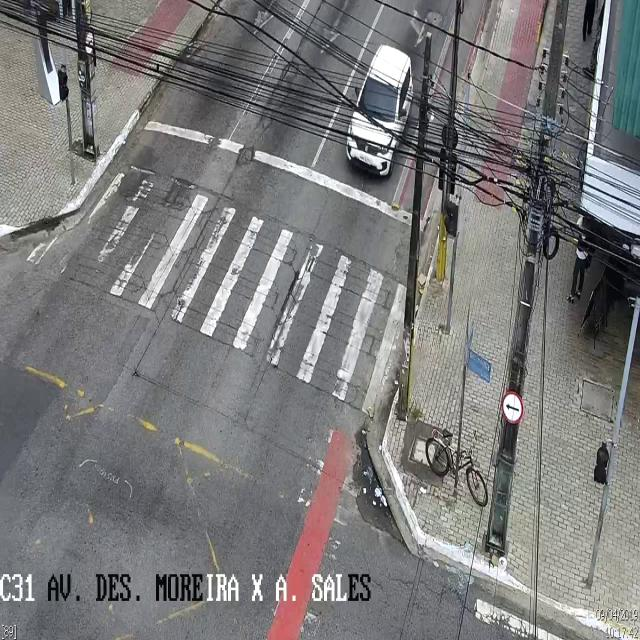Car: (346, 41, 414, 175)
